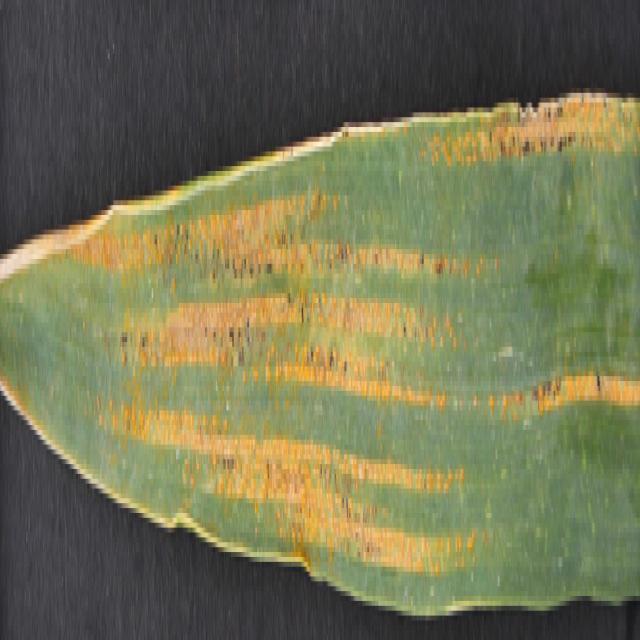leaf rust: (63, 200, 474, 591), (478, 68, 640, 460)
